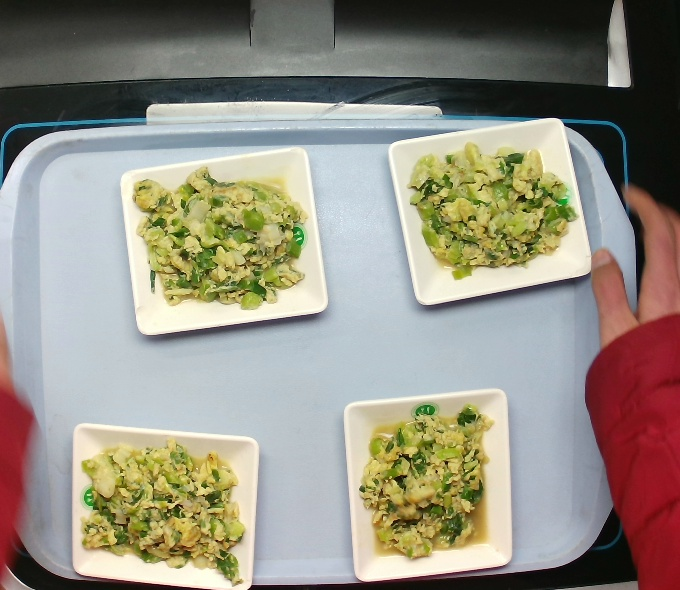wcq-SuanMiaoChaoDan: (134, 154, 307, 302), (408, 140, 570, 275), (356, 409, 496, 559), (82, 440, 234, 568)
